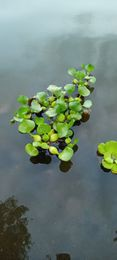water_hyacinth: (9, 57, 100, 167)
